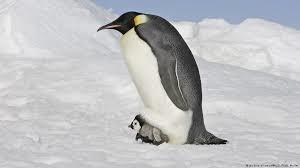emporer: (96, 8, 232, 147)
